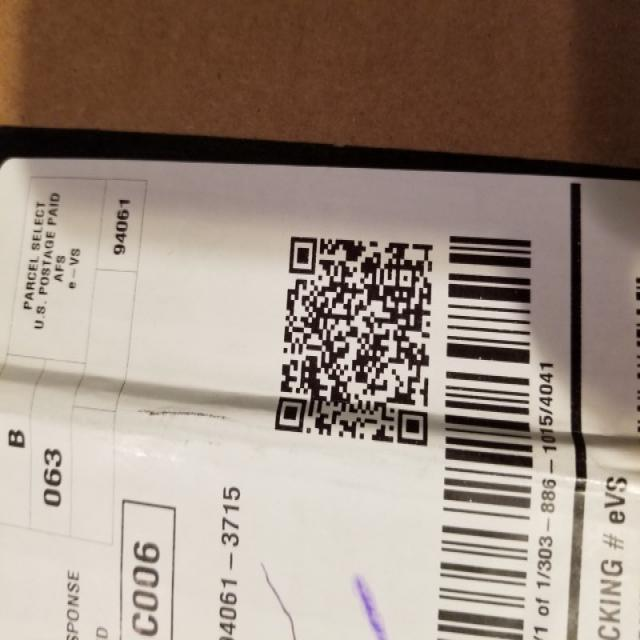QR_CODE: (266, 208, 436, 465)
